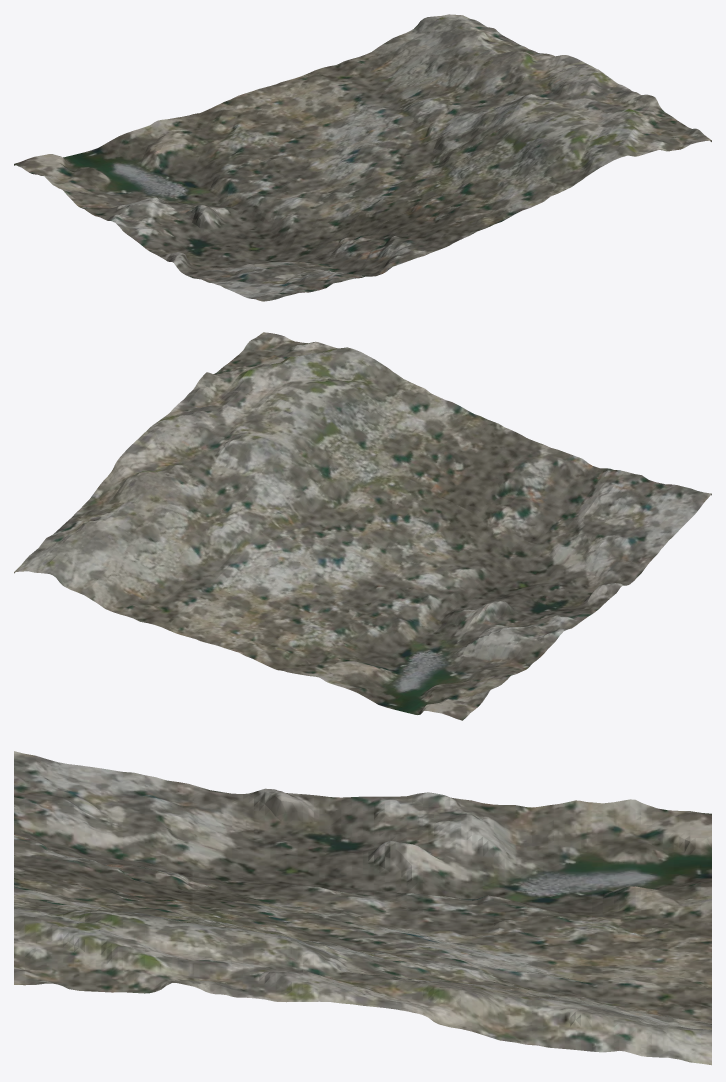
The picture shows the model from 3 angles, top to bottom: view 1: azimuth 30°, elevation 25°; view 2: azimuth 150°, elevation 25°; view 3: azimuth 270°, elevation 25°; orthographic projection. The views are drawn at different scales.
Size of the model in its own units: 250 by 59.13 by 241.
Materials: 1 (1 with a texture image).
